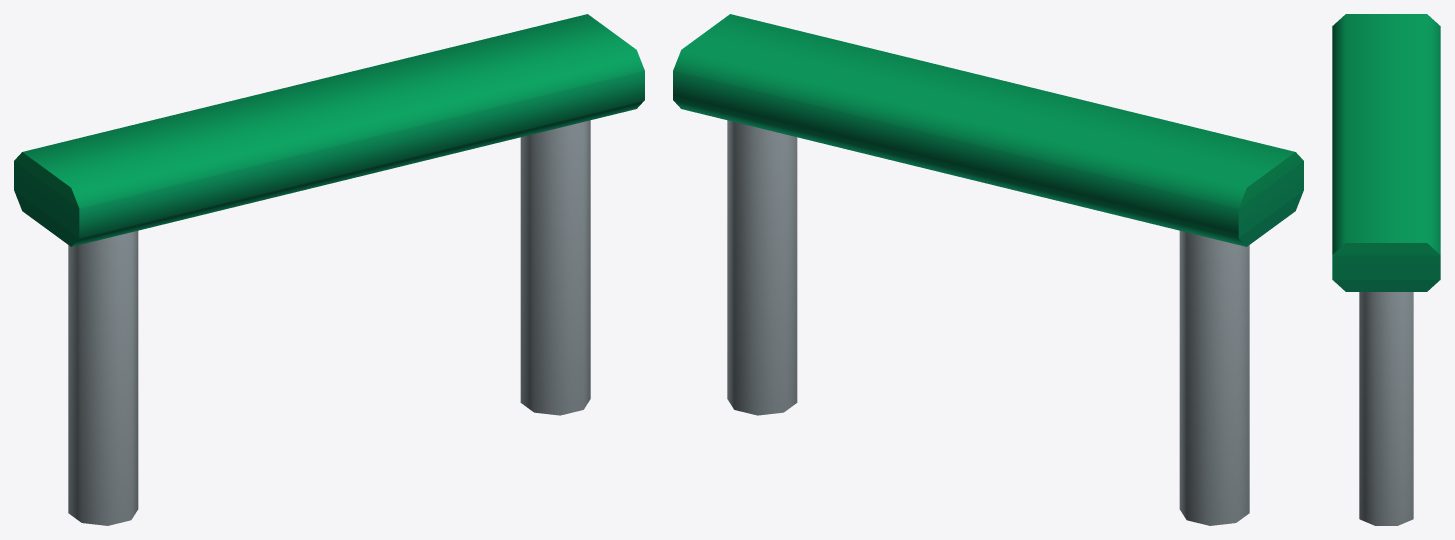
File: railing_straight_single_green.glb
3 views of the same model, side by side, from view 1: azimuth 30°, elevation 25°; view 2: azimuth 150°, elevation 25°; view 3: azimuth 270°, elevation 25° (orthographic). The views are drawn at different scales.
Visible parts, largest first — view 1: railing_straight_single_green; view 2: railing_straight_single_green; view 3: railing_straight_single_green.
Boxes of the visible parts, x1,y1,x2,y2 form: railing_straight_single_green: (14,14,644,525); railing_straight_single_green: (673,14,1303,525); railing_straight_single_green: (1332,14,1440,525).
Bounding box in the file's own units: 2 × 1.2 × 0.4.
Materials: 1 (1 with a texture image).
